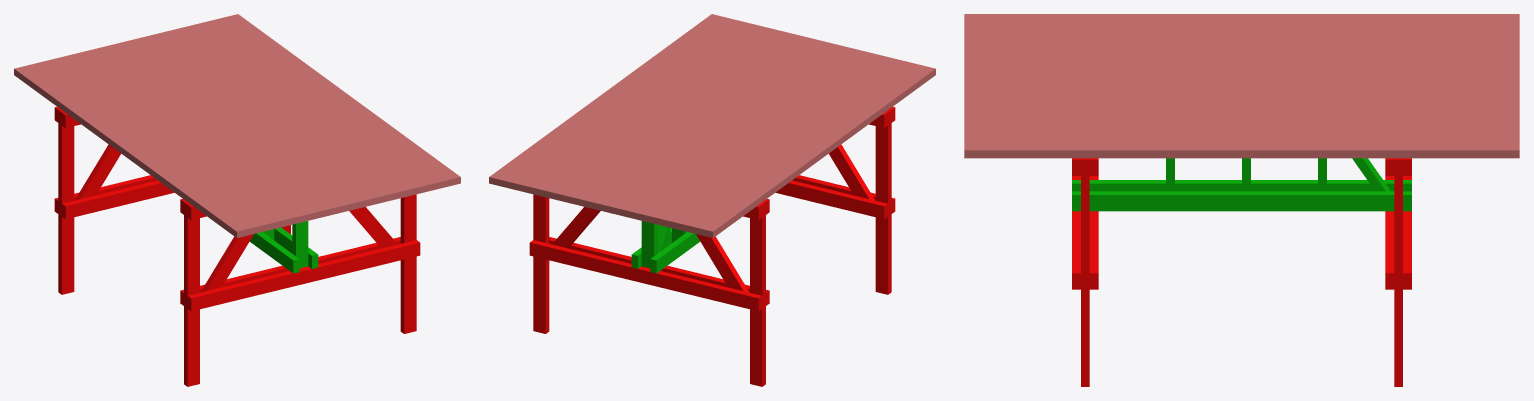
File: result.glb
3 renders of one model, left to right at view 1: azimuth 30°, elevation 25°; view 2: azimuth 150°, elevation 25°; view 3: azimuth 270°, elevation 25°, orthographic. The views are drawn at different scales.
Visible parts, largest first — view 1: 51d747d4-2d20-4e0d-b7e7-5ff8b72d5acb__Box, d7a4bdfd-6558-4cce-b272-7ad9ddec826e__sideH, 26ba8c48-2039-4194-aad4-bb560712ff04__undefined, 74da6b6b-6bcf-488c-a8c3-22979b421ff9__undefined, 7932f187-ee95-453f-bdc4-ba12da86a3ca__undefined, bb19c3b4-9820-4982-94fc-e435f32cb9ba__undefined, acfe32ce-a006-41e1-8b01-22e7c368d87b__undefined, b1bd5eeb-fd04-4b56-b29d-f1e054e241a2__undefined, 482b1e11-8c69-4f00-8814-024c09a37b2d__undefined, 6fa1f448-cb21-4f3c-8760-843a33d5336e__undefined, 6e4b705a-dddf-4096-b8c2-c9cdf79ca6ca__undefined, a20ce491-11fd-4202-844d-fc79a0a0cd14__undefined (+19 smaller); view 2: 51d747d4-2d20-4e0d-b7e7-5ff8b72d5acb__Box, c6fbe341-adb8-4946-a7e4-7b66d48a770e__undefined, 26ba8c48-2039-4194-aad4-bb560712ff04__undefined, 74da6b6b-6bcf-488c-a8c3-22979b421ff9__undefined, 7932f187-ee95-453f-bdc4-ba12da86a3ca__undefined, bb19c3b4-9820-4982-94fc-e435f32cb9ba__undefined, acfe32ce-a006-41e1-8b01-22e7c368d87b__undefined, b1bd5eeb-fd04-4b56-b29d-f1e054e241a2__undefined, 482b1e11-8c69-4f00-8814-024c09a37b2d__undefined, 6fa1f448-cb21-4f3c-8760-843a33d5336e__undefined, 6e4b705a-dddf-4096-b8c2-c9cdf79ca6ca__undefined, a20ce491-11fd-4202-844d-fc79a0a0cd14__undefined (+18 smaller); view 3: 551c7382-3a2c-46d0-b4b3-9b4a95e97438__undefined, 01736e1b-ff65-4d59-8fe0-7b005f5b3be0__strutH, acfe32ce-a006-41e1-8b01-22e7c368d87b__undefined, b1bd5eeb-fd04-4b56-b29d-f1e054e241a2__undefined, 05e15699-ec05-4750-a1e4-0db8bacf830c__undefined, a20ce491-11fd-4202-844d-fc79a0a0cd14__undefined, 51d747d4-2d20-4e0d-b7e7-5ff8b72d5acb__Box, 6fa1f448-cb21-4f3c-8760-843a33d5336e__undefined, 74da6b6b-6bcf-488c-a8c3-22979b421ff9__undefined, 2dd0c78f-6310-4638-9b94-9fd72c9ee1bd__undefined, cb28622d-b6e6-444e-88cb-5526f217d8d3__undefined, bb05d332-3d32-4148-a603-69c521edd841__undefined (+15 smaller).
Boxes of the visible parts, x1,y1,x2,y2 form: 51d747d4-2d20-4e0d-b7e7-5ff8b72d5acb__Box: [14, 65, 249, 237]; d7a4bdfd-6558-4cce-b272-7ad9ddec826e__sideH: [187, 240, 420, 311]; 26ba8c48-2039-4194-aad4-bb560712ff04__undefined: [151, 32, 386, 204]; 74da6b6b-6bcf-488c-a8c3-22979b421ff9__undefined: [39, 59, 274, 231]; 7932f187-ee95-453f-bdc4-ba12da86a3ca__undefined: [126, 38, 361, 210]; bb19c3b4-9820-4982-94fc-e435f32cb9ba__undefined: [213, 17, 448, 189]; acfe32ce-a006-41e1-8b01-22e7c368d87b__undefined: [51, 56, 286, 228]; b1bd5eeb-fd04-4b56-b29d-f1e054e241a2__undefined: [76, 50, 311, 222]; 482b1e11-8c69-4f00-8814-024c09a37b2d__undefined: [201, 20, 435, 192]; 6fa1f448-cb21-4f3c-8760-843a33d5336e__undefined: [27, 62, 261, 234]; 6e4b705a-dddf-4096-b8c2-c9cdf79ca6ca__undefined: [114, 41, 348, 213]; a20ce491-11fd-4202-844d-fc79a0a0cd14__undefined: [164, 29, 398, 201]; 51d747d4-2d20-4e0d-b7e7-5ff8b72d5acb__Box: [700, 65, 935, 237]; c6fbe341-adb8-4946-a7e4-7b66d48a770e__undefined: [529, 240, 762, 311]; 26ba8c48-2039-4194-aad4-bb560712ff04__undefined: [563, 32, 798, 204]; 74da6b6b-6bcf-488c-a8c3-22979b421ff9__undefined: [675, 59, 910, 231]; 7932f187-ee95-453f-bdc4-ba12da86a3ca__undefined: [588, 38, 823, 210]; bb19c3b4-9820-4982-94fc-e435f32cb9ba__undefined: [501, 17, 736, 189]; acfe32ce-a006-41e1-8b01-22e7c368d87b__undefined: [663, 56, 898, 228]; b1bd5eeb-fd04-4b56-b29d-f1e054e241a2__undefined: [638, 50, 873, 222]; 482b1e11-8c69-4f00-8814-024c09a37b2d__undefined: [514, 20, 748, 192]; 6fa1f448-cb21-4f3c-8760-843a33d5336e__undefined: [688, 62, 922, 234]; 6e4b705a-dddf-4096-b8c2-c9cdf79ca6ca__undefined: [601, 41, 835, 213]; a20ce491-11fd-4202-844d-fc79a0a0cd14__undefined: [551, 29, 785, 201]; 551c7382-3a2c-46d0-b4b3-9b4a95e97438__undefined: [964, 142, 1519, 158]; 01736e1b-ff65-4d59-8fe0-7b005f5b3be0__strutH: [1072, 191, 1411, 211]; acfe32ce-a006-41e1-8b01-22e7c368d87b__undefined: [964, 36, 1519, 44]; b1bd5eeb-fd04-4b56-b29d-f1e054e241a2__undefined: [964, 51, 1519, 59]; 05e15699-ec05-4750-a1e4-0db8bacf830c__undefined: [964, 89, 1519, 97]; a20ce491-11fd-4202-844d-fc79a0a0cd14__undefined: [964, 104, 1519, 112]; 51d747d4-2d20-4e0d-b7e7-5ff8b72d5acb__Box: [964, 14, 1519, 21]; 6fa1f448-cb21-4f3c-8760-843a33d5336e__undefined: [964, 21, 1519, 28]; 74da6b6b-6bcf-488c-a8c3-22979b421ff9__undefined: [964, 29, 1519, 36]; 2dd0c78f-6310-4638-9b94-9fd72c9ee1bd__undefined: [964, 44, 1519, 51]; cb28622d-b6e6-444e-88cb-5526f217d8d3__undefined: [964, 59, 1519, 66]; bb05d332-3d32-4148-a603-69c521edd841__undefined: [964, 67, 1519, 74].
Bounding box in the file's own units: 920 × 725 × 1550.
